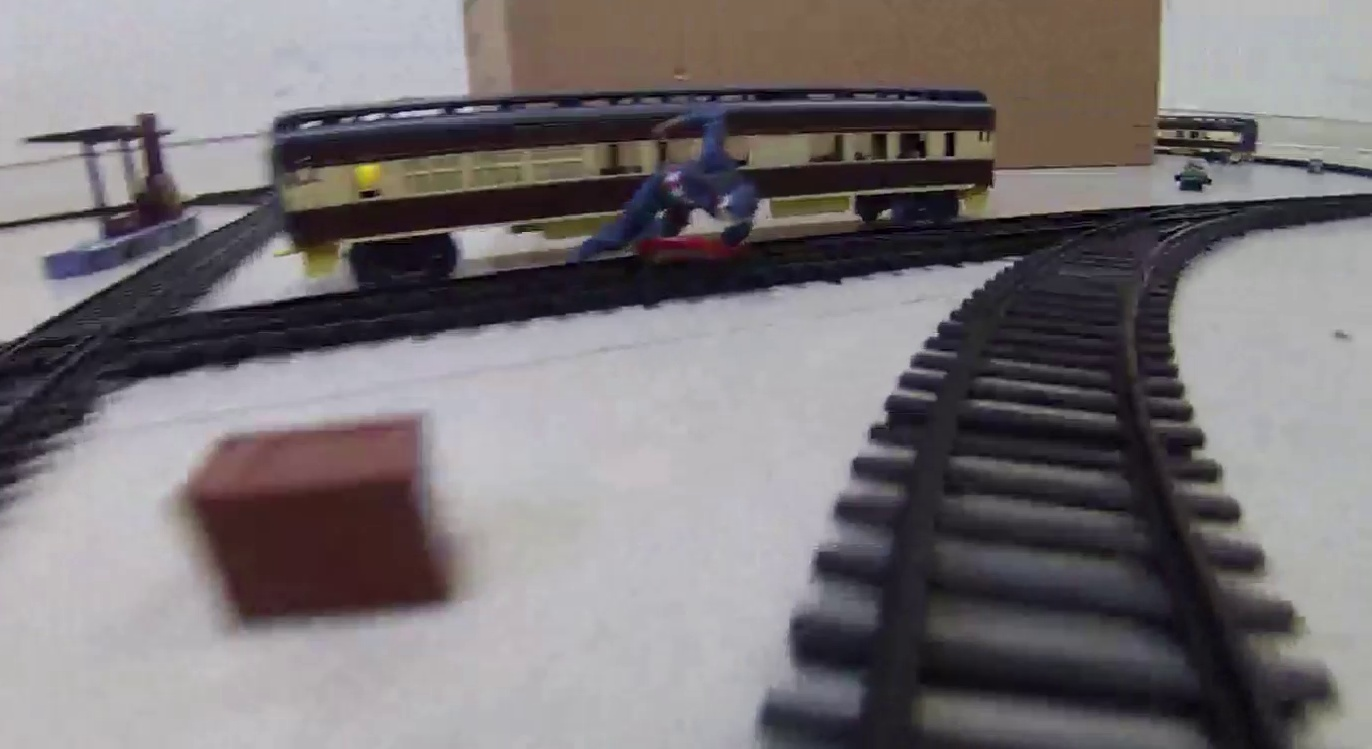box: (179, 407, 457, 634)
people: (570, 108, 758, 259)
